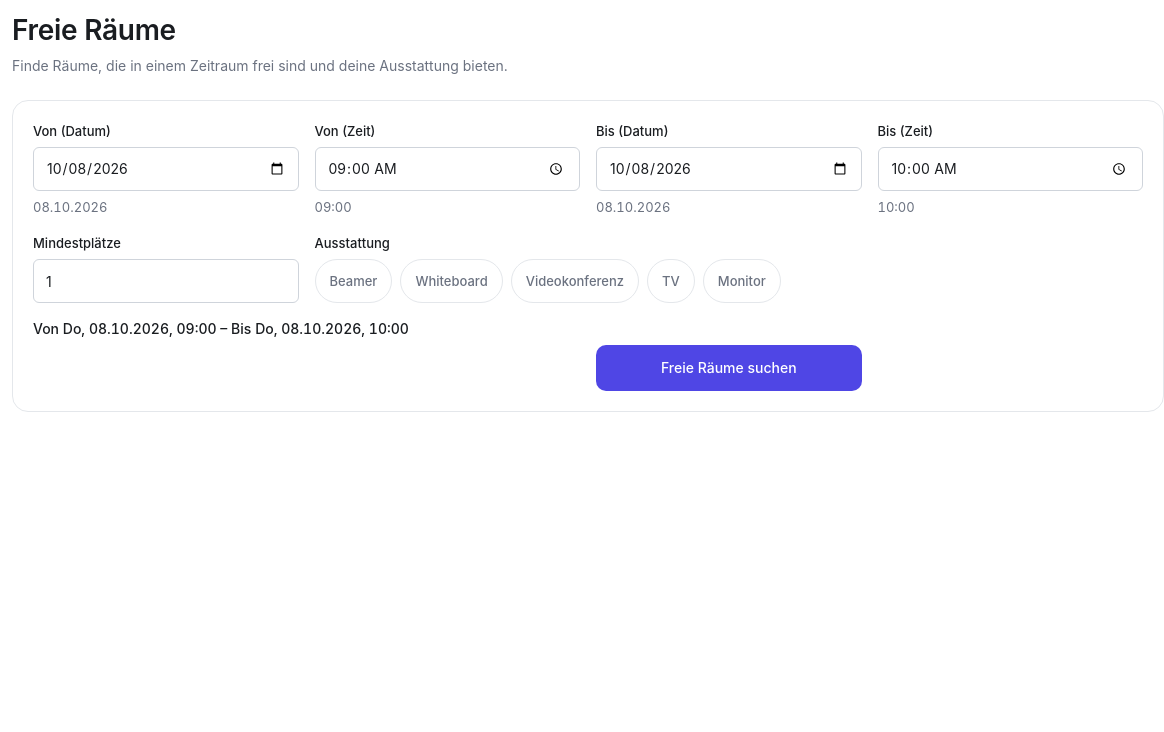
Test: RoomSearch › renders the matching rooms as cards
The width and height of the screenshot is (1164, 732).
Click the button "Freie Räume suchen".
click(729, 368)  # box [596,345,862,391]
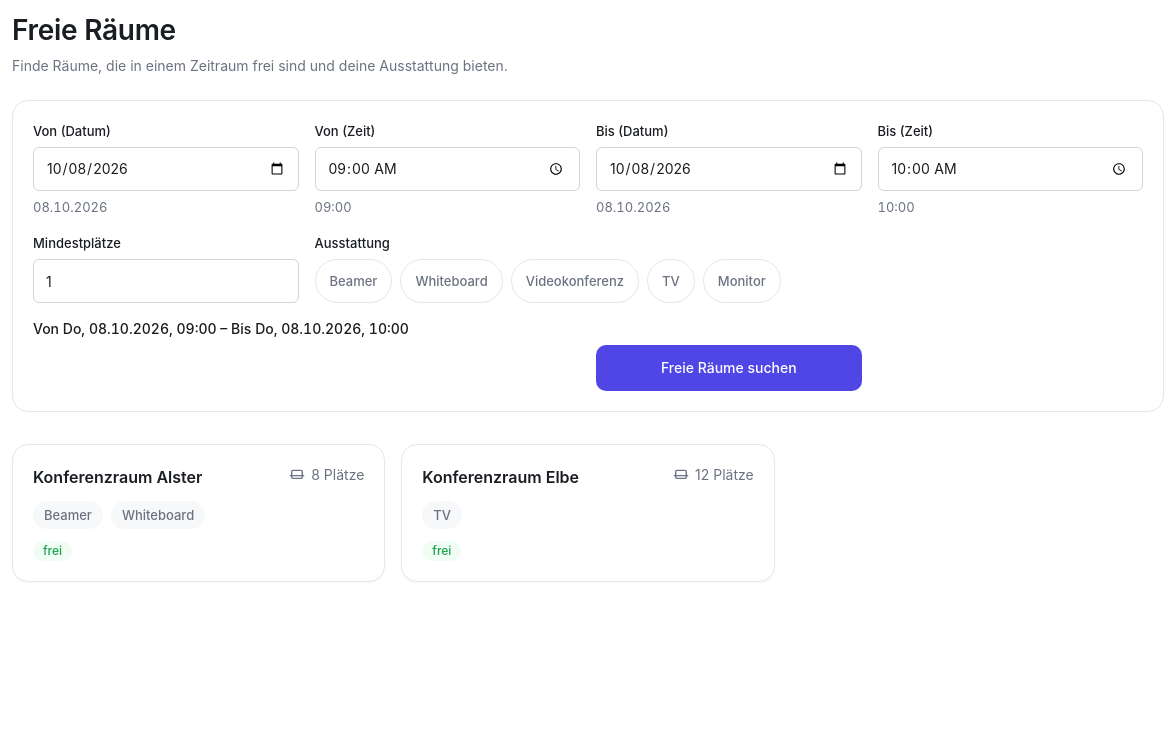
Result: the text "Konferenzraum Alster" is shown at [33,465,202,489]
Result: the text "Konferenzraum Elbe" is shown at [422,465,579,489]
Result: the text "8 Plätze" is shown at [289,465,364,485]
